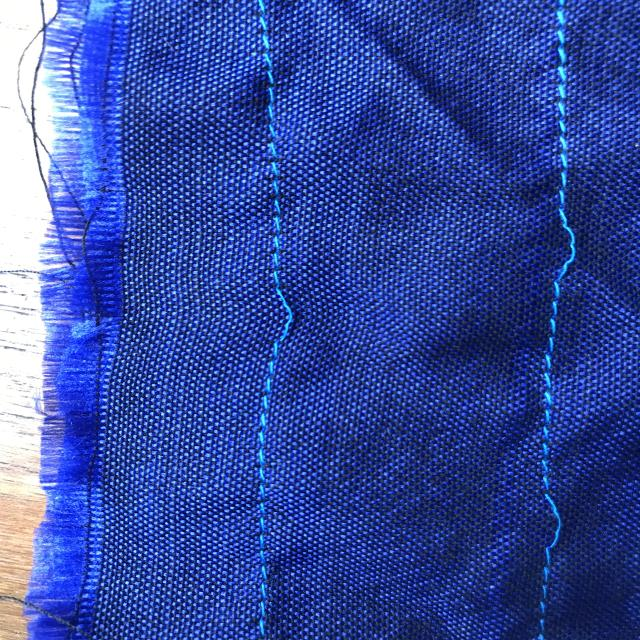skip: (527, 206, 608, 305), (240, 263, 303, 362), (527, 481, 591, 565)
